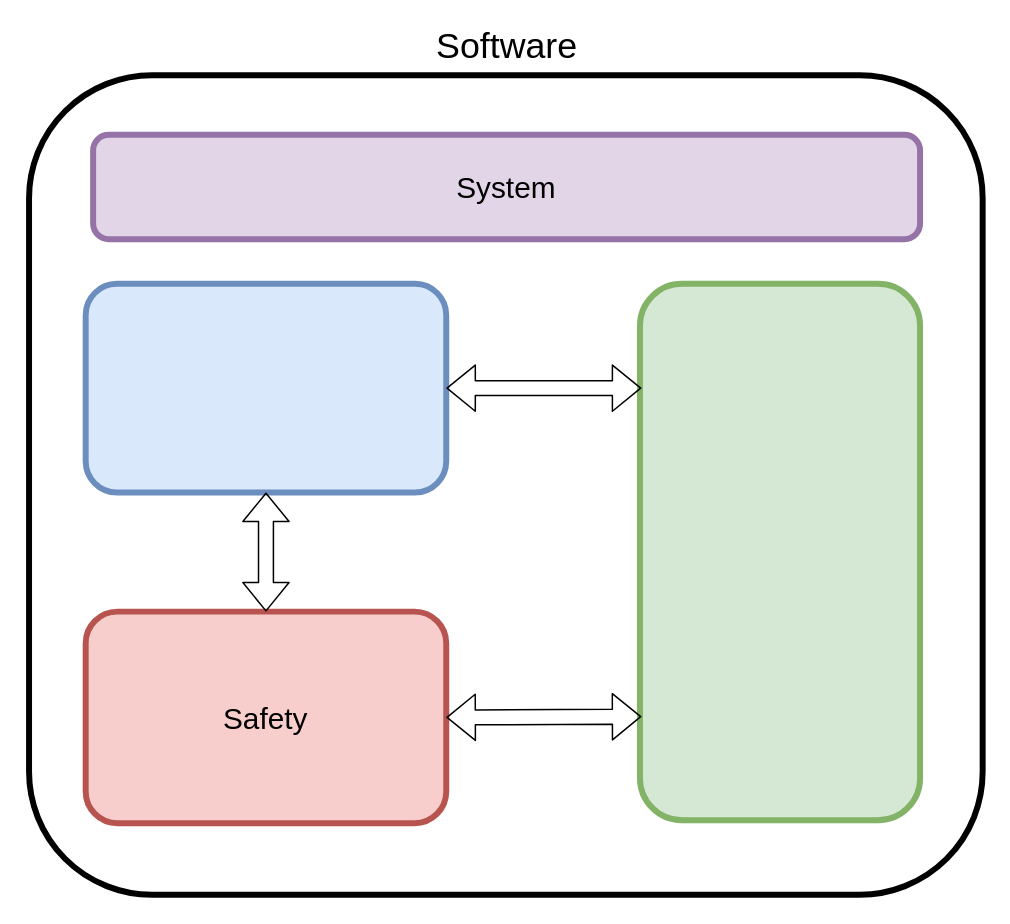
Image size: 1010x924. Some labels were removed from this diagram. The centre of each missing label's shape, as x and y in pixels:
"Motor Control" belongs at point (779, 551).
"User Interface" belongs at point (265, 387).
